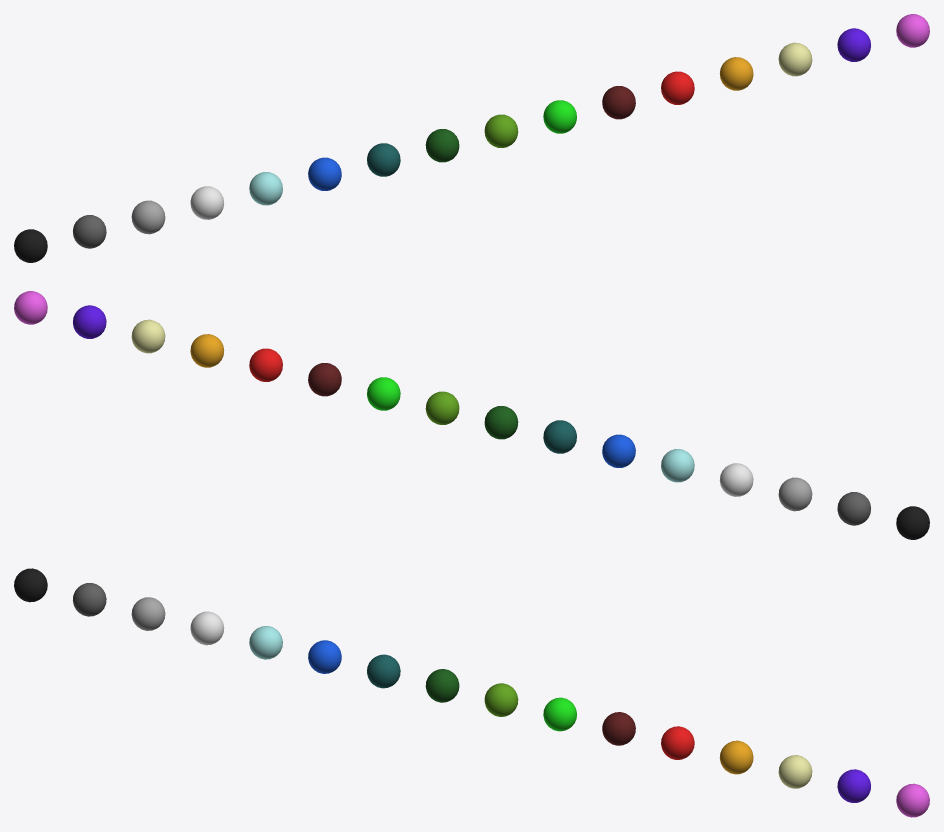
File: balls.glb
3 views of the same model, one above another, from view 1: azimuth 30°, elevation 25°; view 2: azimuth 150°, elevation 25°; view 3: azimuth 330°, elevation 25° (orthographic).
Parts seen in each view (by area): view 1: Icosphere; view 2: Icosphere; view 3: Icosphere.
Part boxes in pixels (x1,y1,x2,y2): Icosphere: [14, 14, 929, 262]; Icosphere: [14, 291, 929, 539]; Icosphere: [14, 568, 929, 817].
Size of the model in its own units: 31 by 1 by 1.
1 material, 1 textured.
